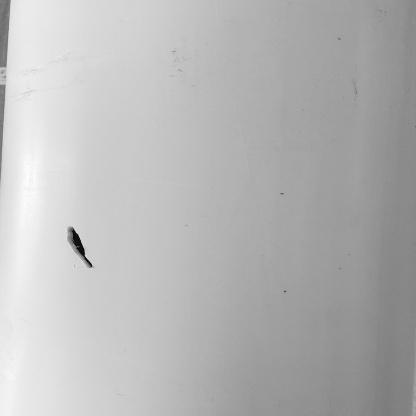kongdong: (60, 222, 100, 272)
